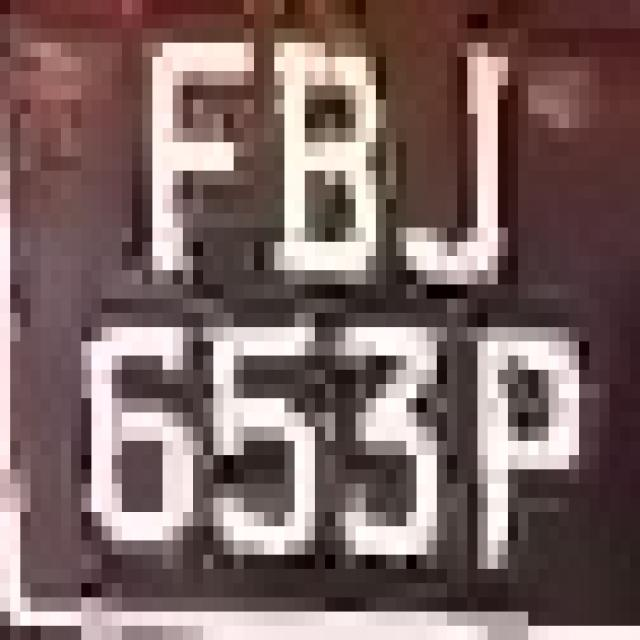3: (325, 284, 437, 598)
5: (203, 285, 315, 583)
6: (71, 242, 193, 583)
B: (254, 0, 406, 327)
F: (112, 0, 254, 299)
J: (386, 14, 549, 313)
P: (447, 284, 589, 598)
